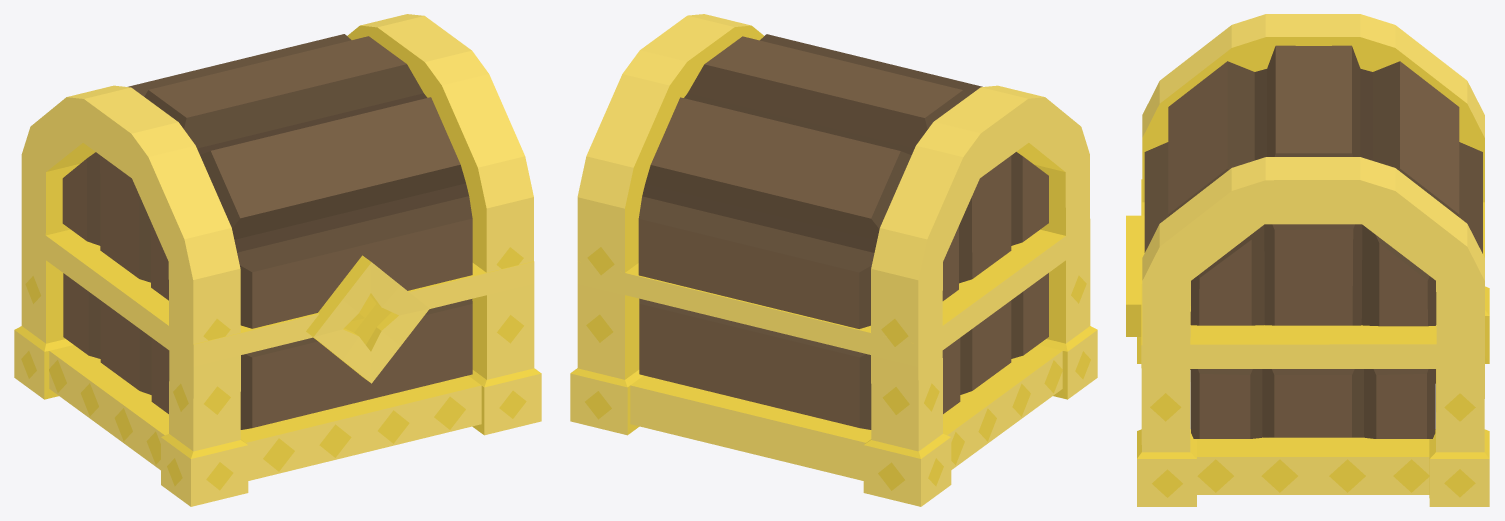
Rendered from Chest.glb.
3 renders of one model, left to right at view 1: azimuth 30°, elevation 25°; view 2: azimuth 150°, elevation 25°; view 3: azimuth 270°, elevation 25°, orthographic.
Parts seen in each view (by area): view 1: upper_chest, lower_chest; view 2: upper_chest, lower_chest; view 3: upper_chest, lower_chest.
Part boxes in pixels (x1,y1,x2,y2): upper_chest: [21, 14, 533, 383]; lower_chest: [14, 219, 541, 506]; upper_chest: [577, 14, 1089, 352]; lower_chest: [570, 219, 1097, 506]; upper_chest: [1126, 14, 1484, 368]; lower_chest: [1137, 179, 1489, 506].
Bounding box in the file's own units: 0.8871 × 0.7818 × 0.7967.
1 material, 1 textured.
